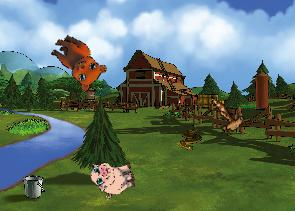bear: (41, 30, 111, 95)
eagle: (202, 95, 256, 141)
pig: (88, 153, 138, 201)
